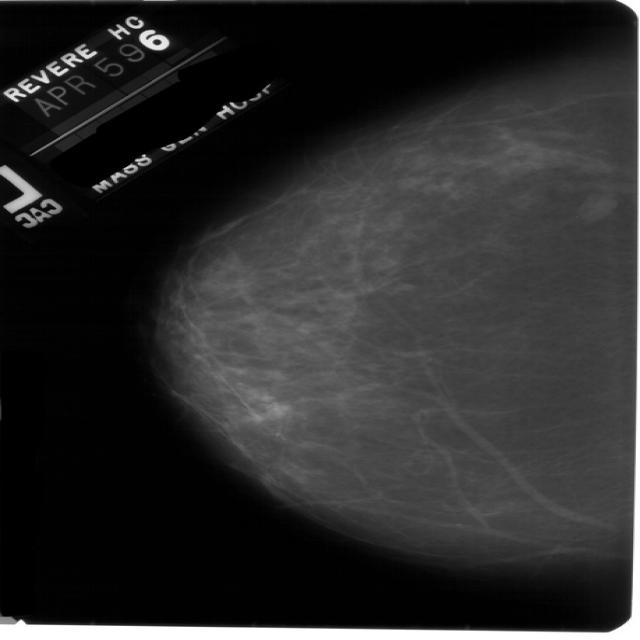tumour: (576, 189, 618, 221)
